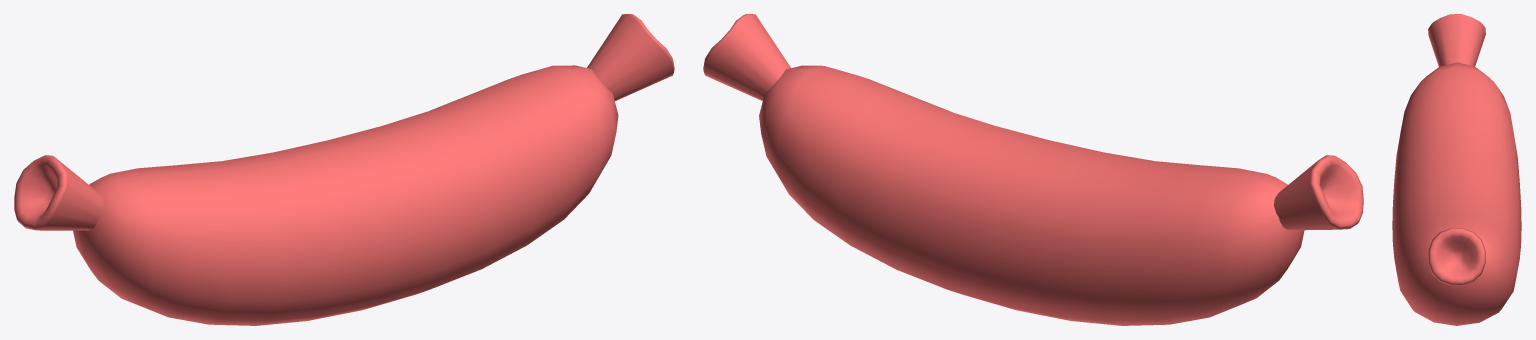
Rendered from Store_16_Ils_6_Sausage_1.glb.
3 renders of one model, left to right at view 1: azimuth 30°, elevation 25°; view 2: azimuth 150°, elevation 25°; view 3: azimuth 270°, elevation 25°, orthographic. The views are drawn at different scales.
Parts seen in each view (by area): view 1: Store_16_Ils_6_Sausage_1; view 2: Store_16_Ils_6_Sausage_1; view 3: Store_16_Ils_6_Sausage_1.
Part boxes in pixels (x1=…): Store_16_Ils_6_Sausage_1: x1=14, y1=14, x2=674, y2=325; Store_16_Ils_6_Sausage_1: x1=703, y1=14, x2=1363, y2=325; Store_16_Ils_6_Sausage_1: x1=1392, y1=14, x2=1521, y2=325.
Size of the model in its own units: 0.285 by 0.0907 by 0.0653.
1 material, 1 textured.
